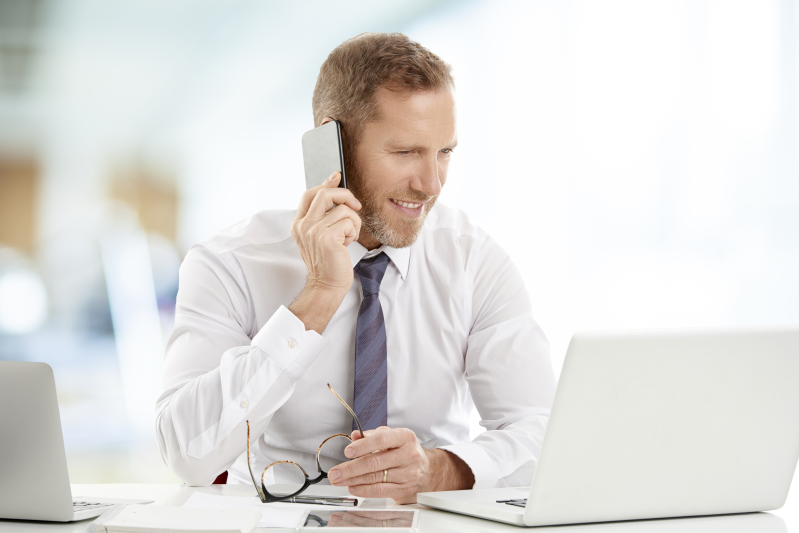calling: (288, 117, 364, 287)
